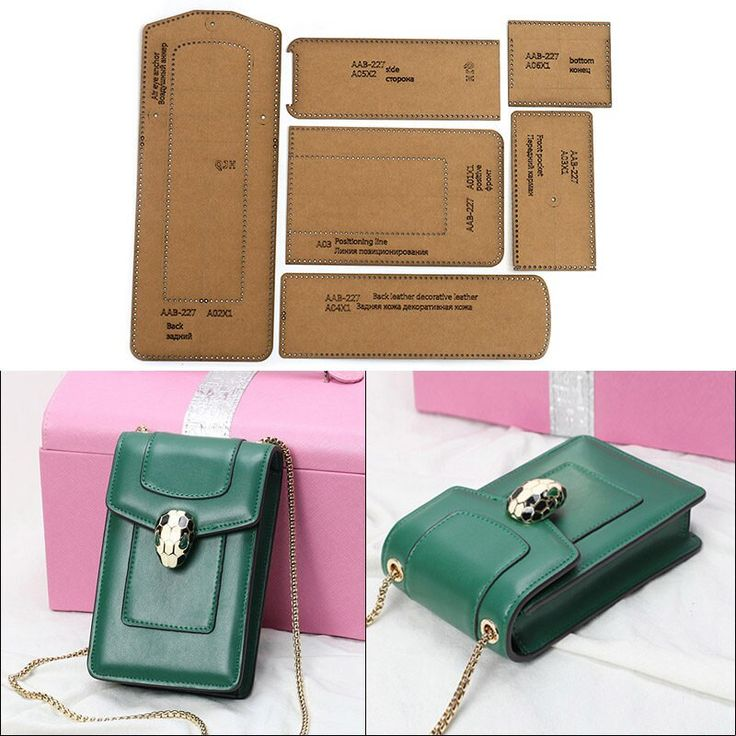cuero: (87, 430, 708, 701)
